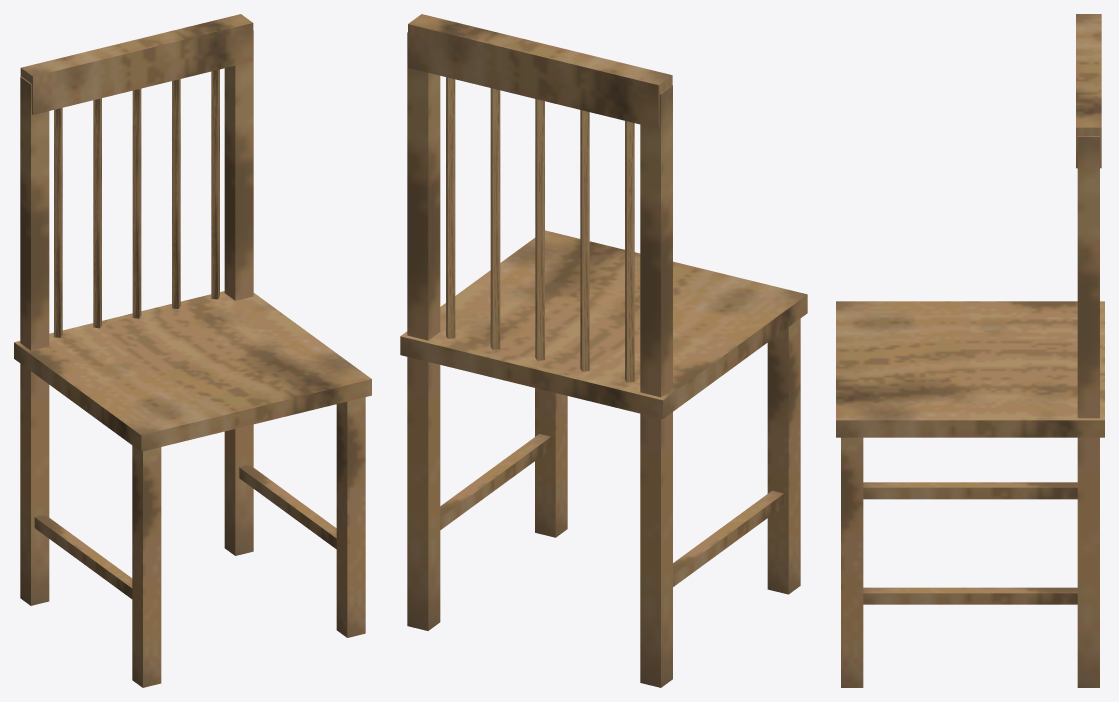
The model's file is chair_ladder_pine.fbx.
3 views of the same model, side by side, from view 1: azimuth 30°, elevation 25°; view 2: azimuth 150°, elevation 25°; view 3: azimuth 270°, elevation 25° (orthographic). The views are drawn at different scales.
Visible parts, largest first — view 1: chair_ladder_pine; view 2: chair_ladder_pine; view 3: chair_ladder_pine.
Boxes of the visible parts, x1=… form: chair_ladder_pine: x1=14, y1=14, x2=371, y2=687; chair_ladder_pine: x1=400, y1=14, x2=807, y2=687; chair_ladder_pine: x1=836, y1=14, x2=1104, y2=687.
Bounding box in the file's own units: 0.44 × 0.965 × 0.42.
Materials: 1 (1 with a texture image).
